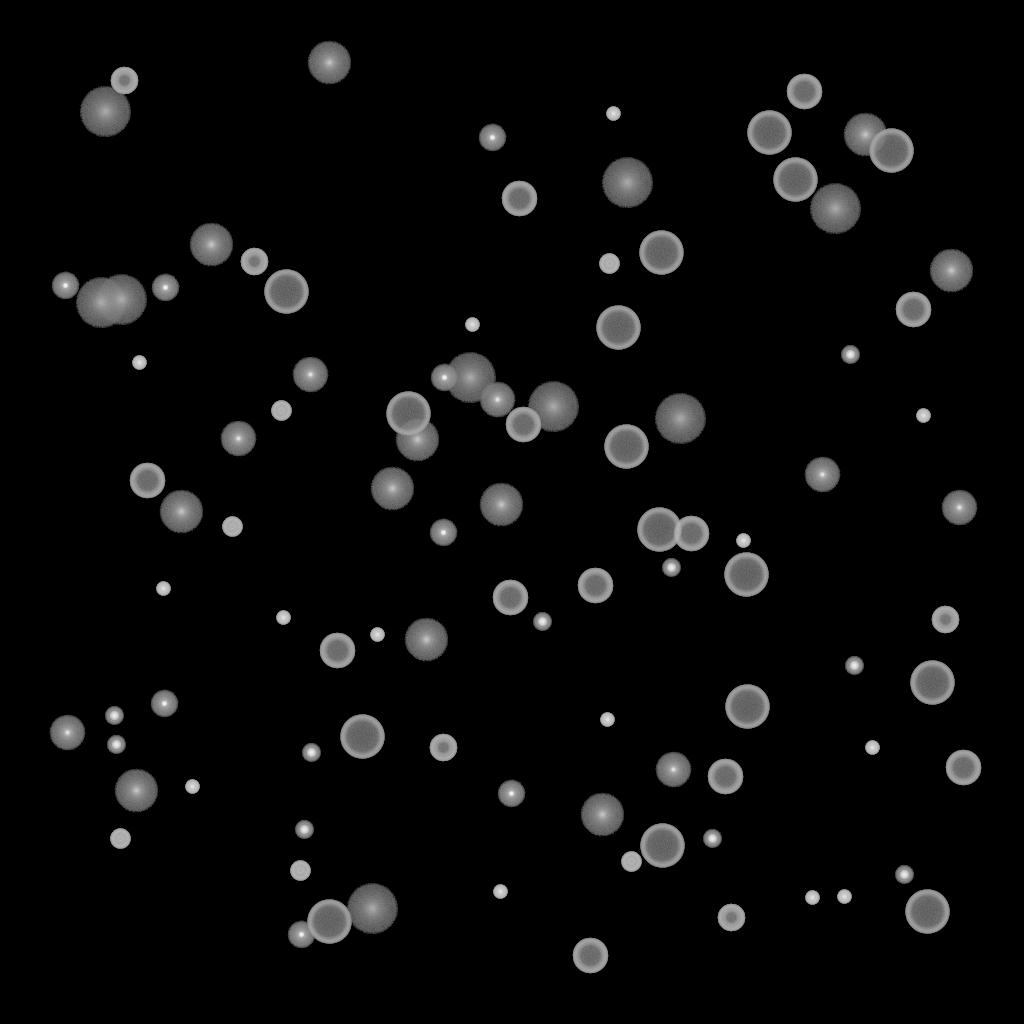depth:-10: (287, 921, 315, 949), (478, 124, 506, 152), (430, 364, 458, 392), (150, 690, 178, 718), (151, 274, 179, 302), (497, 780, 525, 808), (429, 519, 457, 547), (51, 272, 79, 300)
depth:-20: (105, 707, 123, 725), (845, 657, 863, 675), (662, 559, 680, 577), (107, 736, 125, 754), (895, 866, 913, 884), (302, 744, 320, 762), (295, 821, 313, 839), (533, 613, 551, 631), (841, 346, 859, 364), (703, 830, 721, 848)
depth:-30: (276, 611, 290, 625), (132, 356, 146, 370), (736, 534, 750, 548), (156, 582, 170, 596), (916, 409, 930, 423), (370, 628, 384, 642), (805, 891, 819, 905), (600, 713, 614, 727), (837, 890, 851, 904), (865, 741, 879, 755), (465, 318, 479, 332), (606, 107, 620, 121), (493, 885, 507, 899), (185, 780, 199, 794)
depth:-40: (621, 852, 641, 872), (290, 861, 310, 881), (110, 829, 130, 849), (271, 401, 291, 421), (599, 254, 619, 274), (222, 517, 242, 537)
depth:-50: (717, 904, 745, 932), (931, 606, 959, 634), (429, 734, 457, 762), (110, 67, 138, 95), (240, 248, 268, 276)
depth:-60: (577, 568, 613, 604), (492, 580, 528, 616), (945, 750, 981, 786), (319, 633, 355, 669), (786, 74, 822, 110), (707, 759, 743, 795), (501, 181, 537, 217), (129, 463, 165, 499), (673, 516, 709, 552), (895, 292, 931, 328), (505, 407, 541, 443), (572, 938, 608, 974)
depth:-70: (773, 158, 817, 202), (264, 270, 308, 314), (910, 661, 954, 705), (639, 231, 683, 275), (640, 824, 684, 868), (869, 129, 913, 173), (340, 715, 384, 759), (596, 306, 640, 350), (604, 425, 648, 469), (905, 890, 949, 934), (724, 553, 768, 597), (637, 508, 681, 552), (747, 111, 791, 155), (725, 685, 769, 729), (386, 392, 430, 436), (307, 900, 351, 944)
depth:0: (804, 457, 840, 493), (655, 752, 691, 788), (941, 490, 977, 526), (479, 382, 515, 418), (292, 357, 328, 393), (220, 421, 256, 457), (49, 715, 85, 751)
depth:10: (370, 467, 414, 511), (479, 483, 523, 527), (114, 769, 158, 813), (159, 490, 203, 534), (307, 41, 351, 85), (404, 618, 448, 662), (189, 223, 233, 267), (395, 418, 439, 462), (843, 113, 887, 157), (929, 249, 973, 293), (580, 793, 624, 837)
depth:20: (346, 884, 398, 934), (95, 275, 147, 325), (809, 184, 861, 234), (444, 353, 496, 403), (75, 278, 127, 328), (527, 382, 579, 432), (79, 87, 131, 137), (601, 158, 653, 208), (654, 394, 706, 444)
